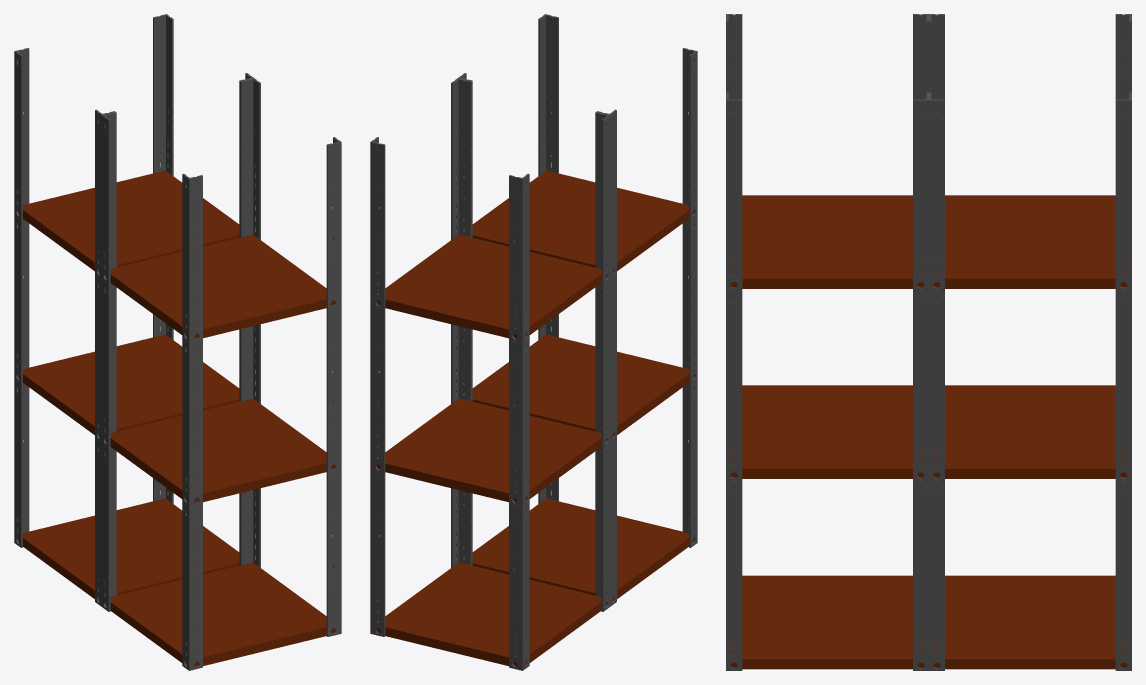
File: Estante_x2.fbx
The picture shows the model from 3 angles, left to right: view 1: azimuth 30°, elevation 25°; view 2: azimuth 150°, elevation 25°; view 3: azimuth 270°, elevation 25°; orthographic projection. The views are drawn at different scales.
Visible parts, largest first — view 1: Cube.001; view 2: Cube.001; view 3: Cube.001.
Part boxes in pixels (bbox=[...]): Cube.001: bbox=[14, 14, 341, 670]; Cube.001: bbox=[370, 14, 697, 670]; Cube.001: bbox=[726, 14, 1131, 670].
Size of the model in its own units: 95.74 by 295 by 190.
